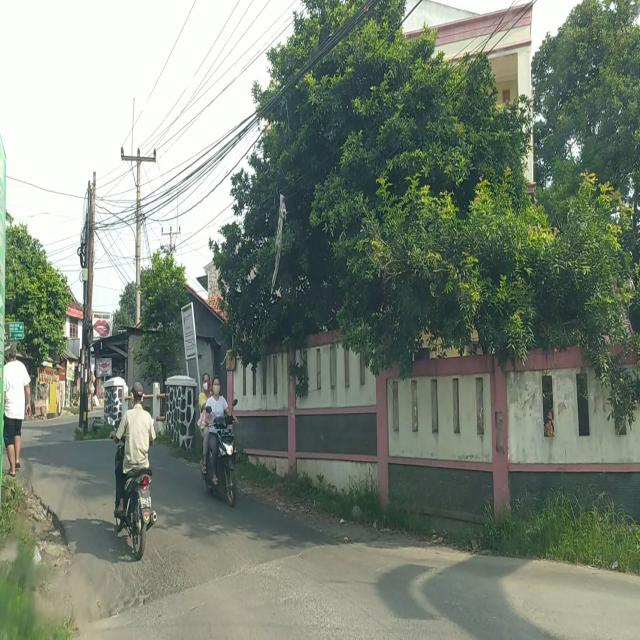Drain Hole: (102, 554, 185, 618)
